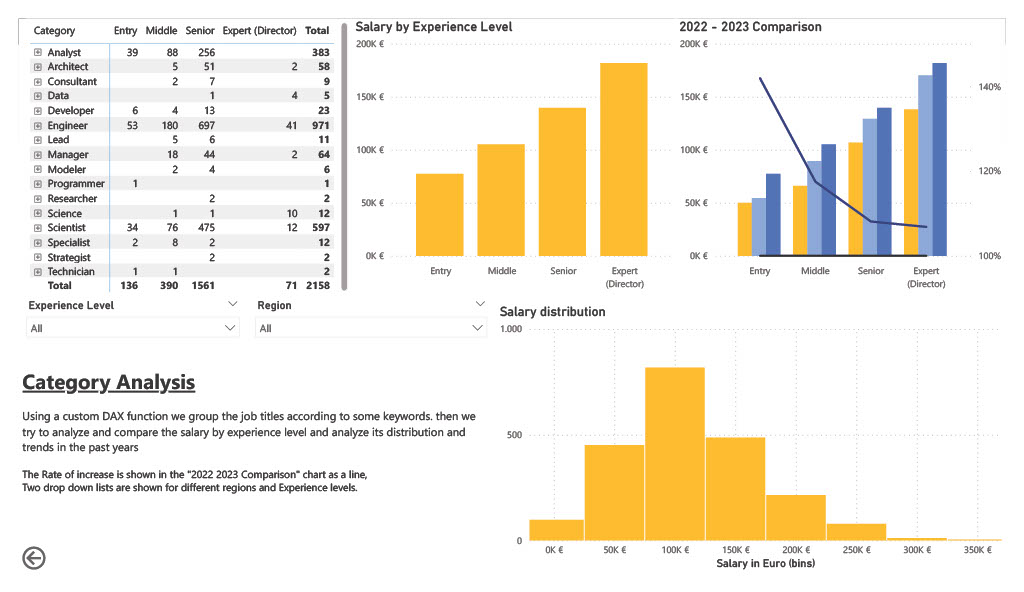

The page's visual inventory and layout, read from the dashboard file:
{"tool":"powerbi","page":{"name":"Category Analysis","canvas":[1280,720],"ordinal":2},"visuals":[{"type":"pivotTable","fields":{"Columns":["Salaries.Experience Level"],"Values":["CountNonNull(Salaries.Job Title)"],"Rows":["Salaries.Category Hierarchy.Category","Salaries.Category Hierarchy.Job Title"]},"box":[10,0,422.2,360],"z":0},{"type":"clusteredColumnChart","title":"Salary by Experience Level","fields":{"Category":["Salaries.Experience Level"],"Y":["Median(Salaries.Salary in Euro)"]},"box":[431.7,0,423.3,359.5],"z":1000},{"type":"clusteredColumnChart","title":"Salary distribution","fields":{"Category":["Salaries.Salary in Euro (bins)"],"Y":["CountNonNull(Salaries.Salary in Euro (bins))"]},"box":[618.6,370,661.4,350],"z":2000},{"type":"lineClusteredColumnComboChart","title":"2022 - 2023 Comparison","fields":{"Category":["Salaries.Experience Level"],"Y":["Salaries.Median 2021","Salaries.Last Year Median","Salaries.Median 2023"],"Y2":["Salaries.RoI","Salaries.100%"]},"box":[851.7,0,428.3,359.5],"z":3000},{"type":"slicer","fields":{"Values":["Salaries.Experience Level"]},"box":[0,359.5,297.3,70.6],"z":4000},{"type":"textbox","box":[0,430,618.2,290.6],"z":5000},{"type":"slicer","fields":{"Values":["Countries.Region"]},"box":[297.3,359.5,320.8,70.6],"z":6000},{"type":"actionButton","box":[0,680,100.4,39.5],"z":7000}]}

Visuals, with their boxes in screenshot pixels (x1, y1, x2, y2), scaled from the page's 1280x720 canvas onto the 1024x592 screenshot:
pivotTable - Salaries.Experience Level x CountNonNull(Salaries.Job Title): (8, 0, 346, 296)
"Salary by Experience Level" clusteredColumnChart: (345, 0, 684, 296)
"Salary distribution" clusteredColumnChart: (495, 304, 1023, 591)
"2022 - 2023 Comparison" lineClusteredColumnComboChart: (681, 0, 1023, 296)
slicer - Salaries.Experience Level: (0, 296, 238, 354)
textbox: (0, 354, 495, 591)
slicer - Countries.Region: (238, 296, 494, 354)
actionButton: (0, 559, 80, 591)
